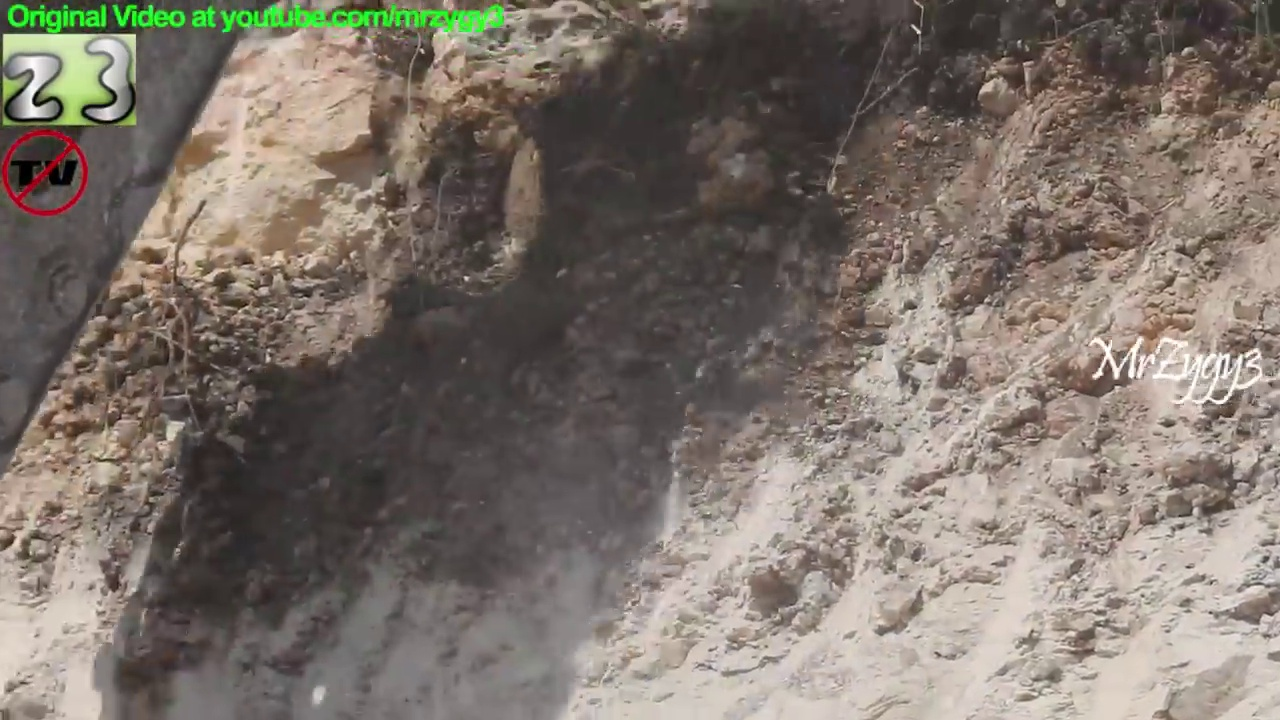excavator: (1, 3, 265, 474)
